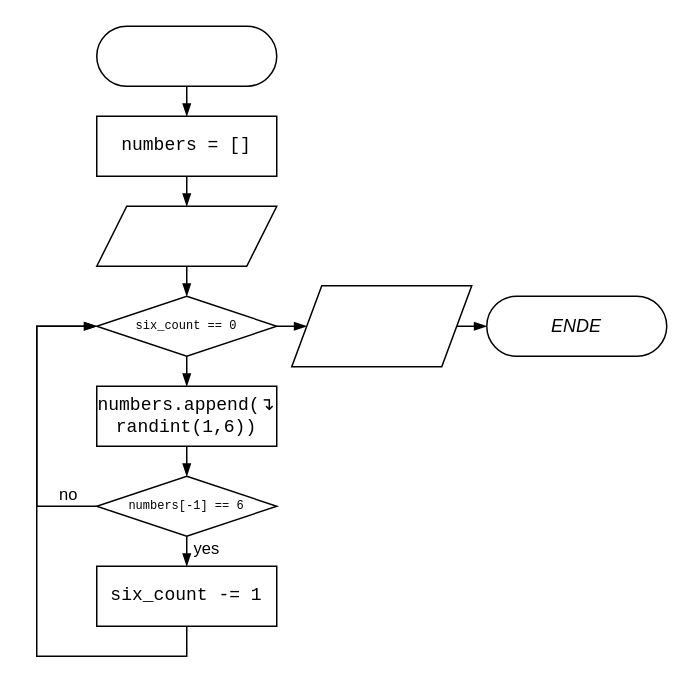
Image size: 693x695. Some labels were removed from this diagram. Each missing label, with the box of its shape:
Ausgabe len(numbers sum(numbers): (290, 284, 472, 367)
Eingabe six_count: (95, 205, 277, 266)
START: (95, 25, 277, 86)
